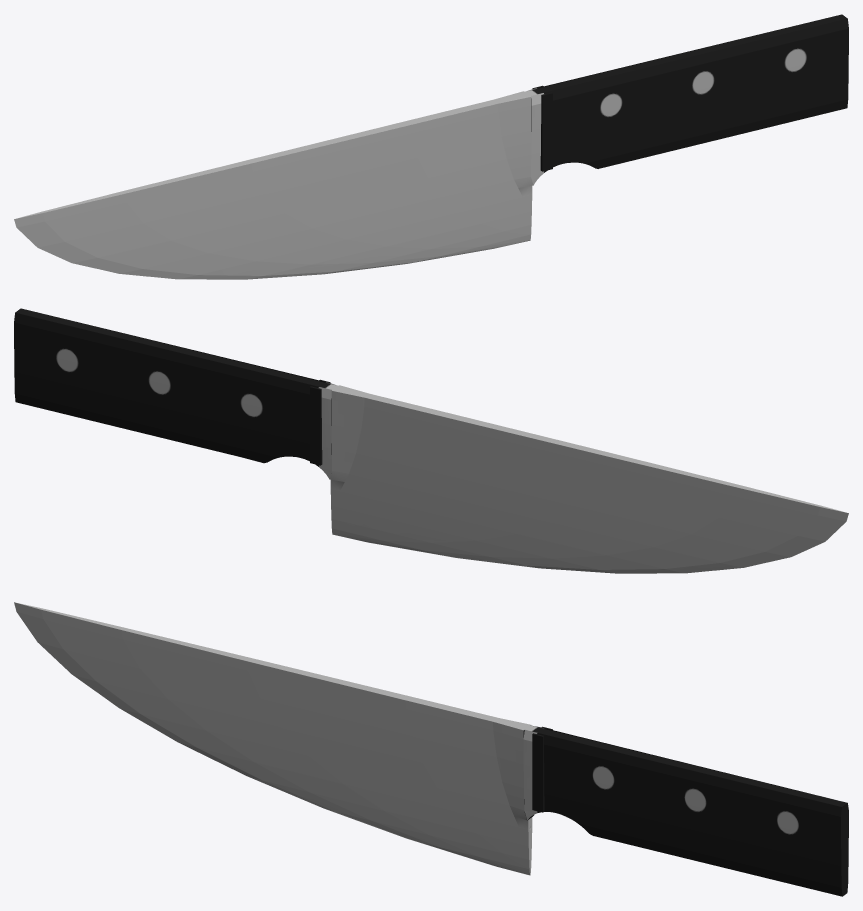
Rendered from KnifeUV1.fbx.
3 views of the same model, one above another, from view 1: azimuth 30°, elevation 25°; view 2: azimuth 150°, elevation 25°; view 3: azimuth 330°, elevation 25° (orthographic).
Visible parts, largest first — view 1: pSphere9; view 2: pSphere9; view 3: pSphere9.
Boxes of the visible parts, x1,y1,x2,y2 form: pSphere9: (14,14,848,279); pSphere9: (14,308,848,573); pSphere9: (14,602,848,896).
Bounding box in the file's own units: 5.25 × 0.8901 × 0.1107.
